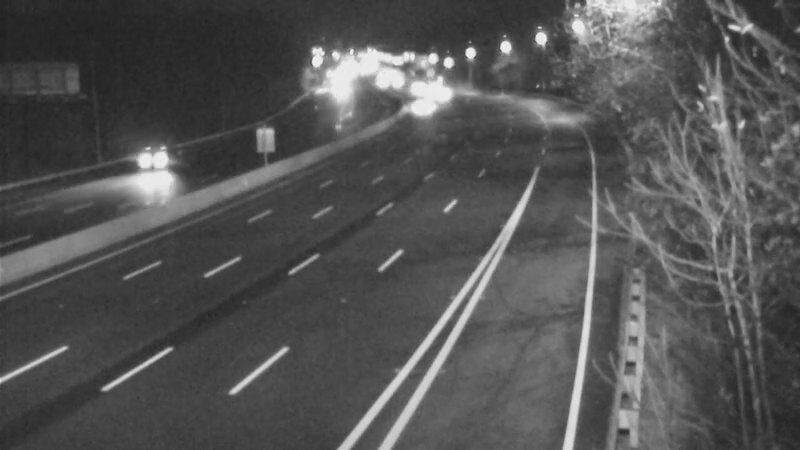vehicle: (113, 124, 193, 204), (390, 63, 440, 113), (396, 79, 446, 129)
